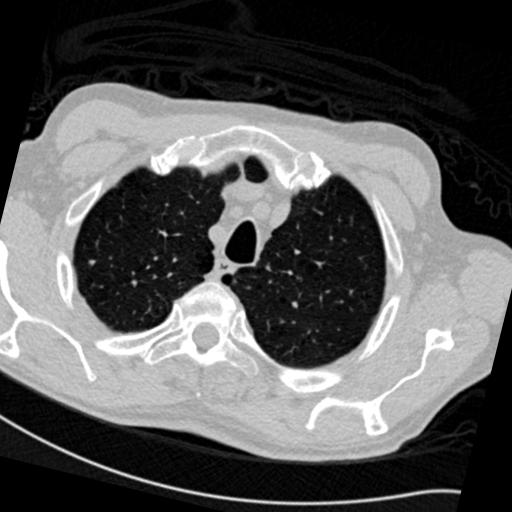nodule: (86, 256, 101, 271)
